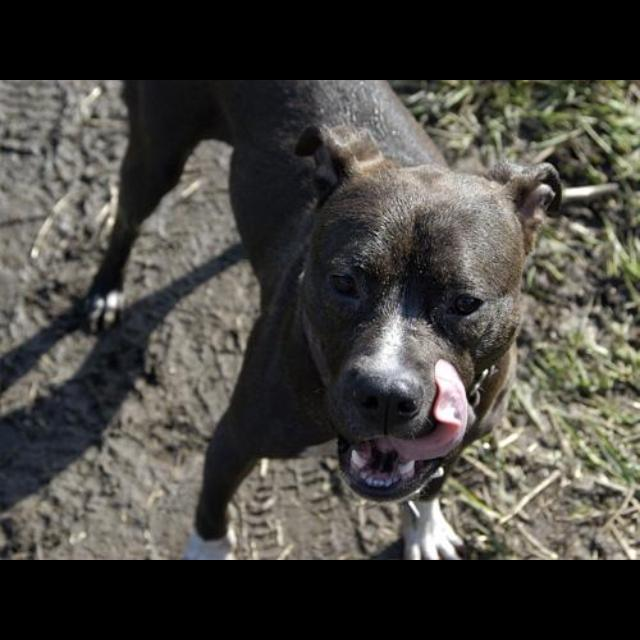amstaff: (82, 81, 563, 559)
